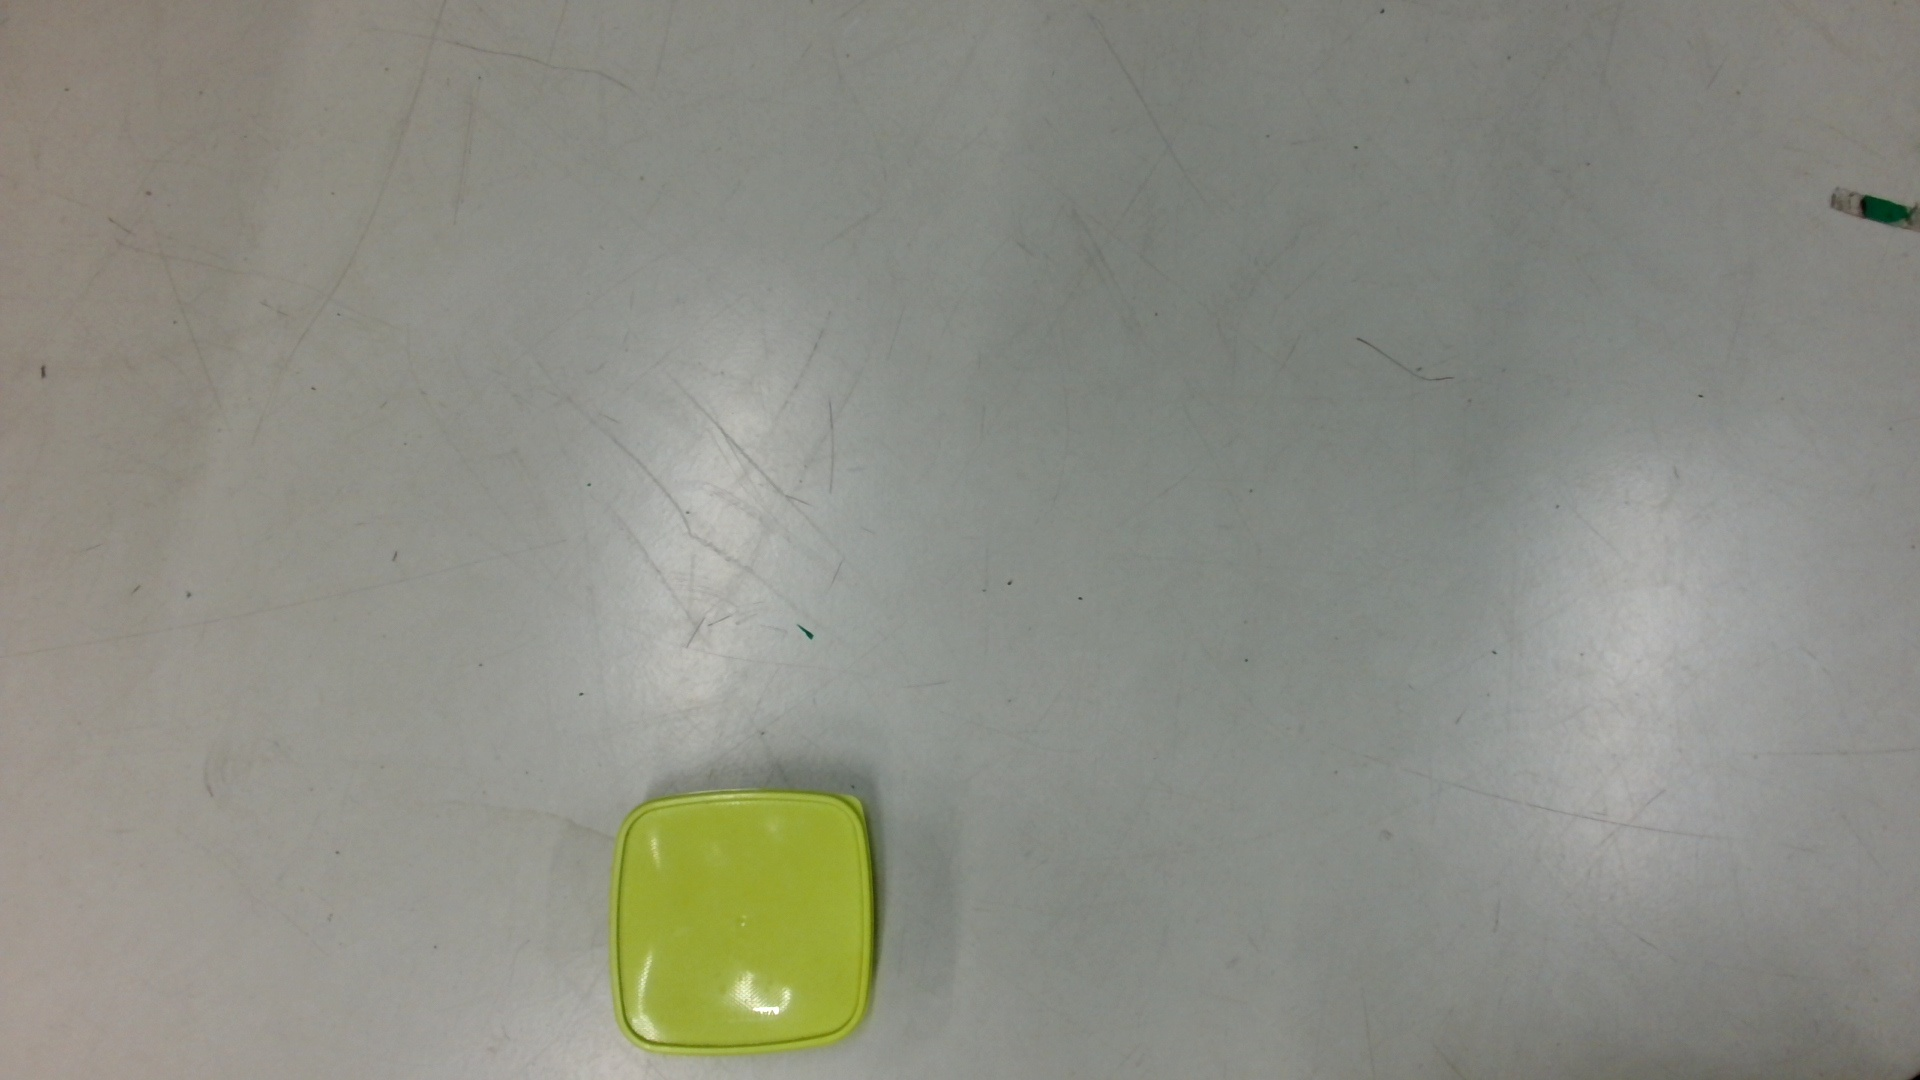Box: (604, 783, 886, 1064)
